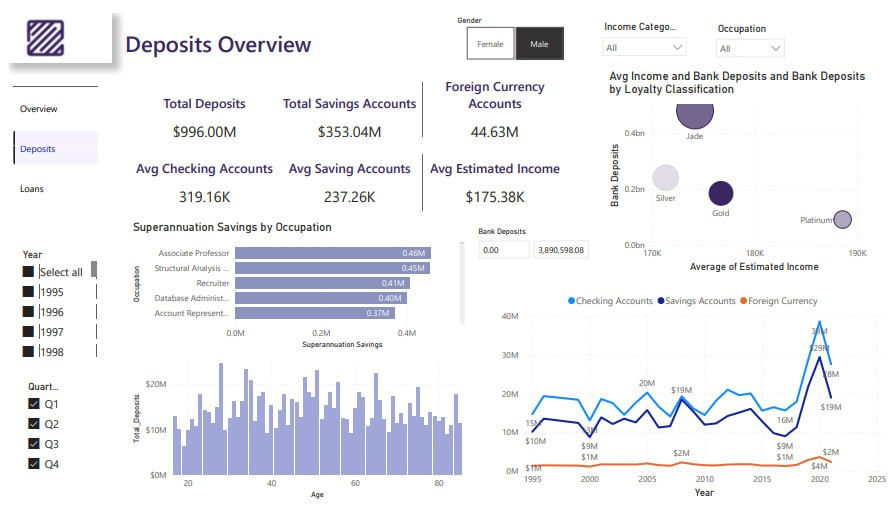

Layout of this report page (visuals, bound fields, positions):
{"tool":"powerbi","page":{"name":"Deposits","canvas":[1280,720],"ordinal":1},"visuals":[{"type":"textbox","box":[150,0,1130,73.3],"z":0},{"type":"shape","box":[0,82.9,150,628.6],"z":1000},{"type":"pageNavigator","box":[5.7,105.7,125.7,174.3],"z":2000},{"type":"actionButton","box":[0,153.3,150,40],"z":3000},{"type":"actionButton","box":[5.7,192.9,125.7,40],"z":4000},{"type":"cardVisual","fields":{"Data":["final_data.Total_Deposits","final_data.Total Savings Accounts","Sum(final_data.Foreign_Currency_Account)"]},"box":[167.5,87.5,657.5,105],"z":5000},{"type":"slicer","fields":{"Values":["DimDate.Year"]},"box":[8.3,338.3,125,166.7],"z":6000},{"type":"slicer","fields":{"Values":["DimDate.Quarter"]},"box":[15.7,530,78.6,147.1],"z":7000},{"type":"lineChart","fields":{"Y":["final_data.Total_Checking_Accounts","final_data.Total Savings Accounts","final_data.Total Foreign Currency"],"Category":["DimDate.Year"]},"box":[712,398,568,312],"z":8000},{"type":"scatterChart","title":"Avg Income and Bank Deposits and Bank Deposits by Loyalty Classification","fields":{"Series":["final_data.Loyalty_Classification"],"Y":["Sum(final_data.Bank_Deposits)"],"Size":["Sum(final_data.Bank_Deposits)"],"X":["Avg(final_data.Estimated_Income)"]},"box":[868,82,384,300],"z":9000},{"type":"clusteredBarChart","title":"Superannuation Savings by Occupation","fields":{"Category":["final_data.Occupation"],"Y":["Sum(final_data.Superannuation_Savings)"]},"box":[176.2,301.2,491.2,191.2],"z":10000},{"type":"cardVisual","fields":{"Data":["final_data.Avg_Checking_Accounts","final_data.Avg_Saving_Accounts","final_data.Avg Estimated Income"]},"box":[167.5,192.5,657.5,107.5],"z":11000},{"type":"slicer","fields":{"Values":["final_data.Occupation"]},"box":[1017.5,10,120,57.5],"z":12000},{"type":"slicer","fields":{"Values":["final_data.IncomeCategory"]},"box":[852.5,7.5,142.5,57.5],"z":13000},{"type":"clusteredColumnChart","fields":{"Category":["final_data.Age"],"Y":["final_data.Total_Deposits"]},"box":[176.2,492.5,491.2,218.8],"z":14000},{"type":"slicer","fields":{"Values":["final_data.Bank_Deposits"]},"box":[670,307.5,197.5,75],"z":15000},{"type":"slicer","fields":{"Values":["final_data.Gender"]},"box":[640,0,190,75],"z":16000},{"type":"shape","box":[0,0,150,72.5],"z":16001},{"type":"actionButton","box":[15.7,0,84.3,72.9],"z":16002}]}

Visuals, with their boxes in screenshot pixels (x1, y1, x2, y2), scaled from the page's 1280x720 canvas onto the 893x517 screenshot:
textbox: x1=105, y1=0, x2=892, y2=53
shape: x1=0, y1=60, x2=105, y2=511
pageNavigator: x1=4, y1=76, x2=92, y2=201
actionButton: x1=0, y1=110, x2=105, y2=139
actionButton: x1=4, y1=139, x2=92, y2=167
cardVisual - final_data.Total_Deposits x final_data.Total Savings Accounts: x1=117, y1=63, x2=576, y2=138
slicer - DimDate.Year: x1=6, y1=243, x2=93, y2=363
slicer - DimDate.Quarter: x1=11, y1=381, x2=66, y2=486
lineChart - final_data.Total_Checking_Accounts x final_data.Total Savings Accounts: x1=497, y1=286, x2=892, y2=510
"Avg Income and Bank Deposits and Bank Deposits by Loyalty Classification" scatterChart: x1=606, y1=59, x2=873, y2=274
"Superannuation Savings by Occupation" clusteredBarChart: x1=123, y1=216, x2=466, y2=354
cardVisual - final_data.Avg_Checking_Accounts x final_data.Avg_Saving_Accounts: x1=117, y1=138, x2=576, y2=215
slicer - final_data.Occupation: x1=710, y1=7, x2=794, y2=48
slicer - final_data.IncomeCategory: x1=595, y1=5, x2=694, y2=47
clusteredColumnChart - final_data.Age x final_data.Total_Deposits: x1=123, y1=354, x2=466, y2=511
slicer - final_data.Bank_Deposits: x1=467, y1=221, x2=605, y2=275
slicer - final_data.Gender: x1=446, y1=0, x2=579, y2=54
shape: x1=0, y1=0, x2=105, y2=52
actionButton: x1=11, y1=0, x2=70, y2=52
